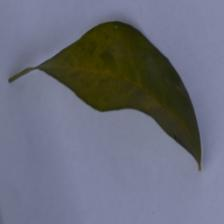greening: (16, 17, 125, 107)
